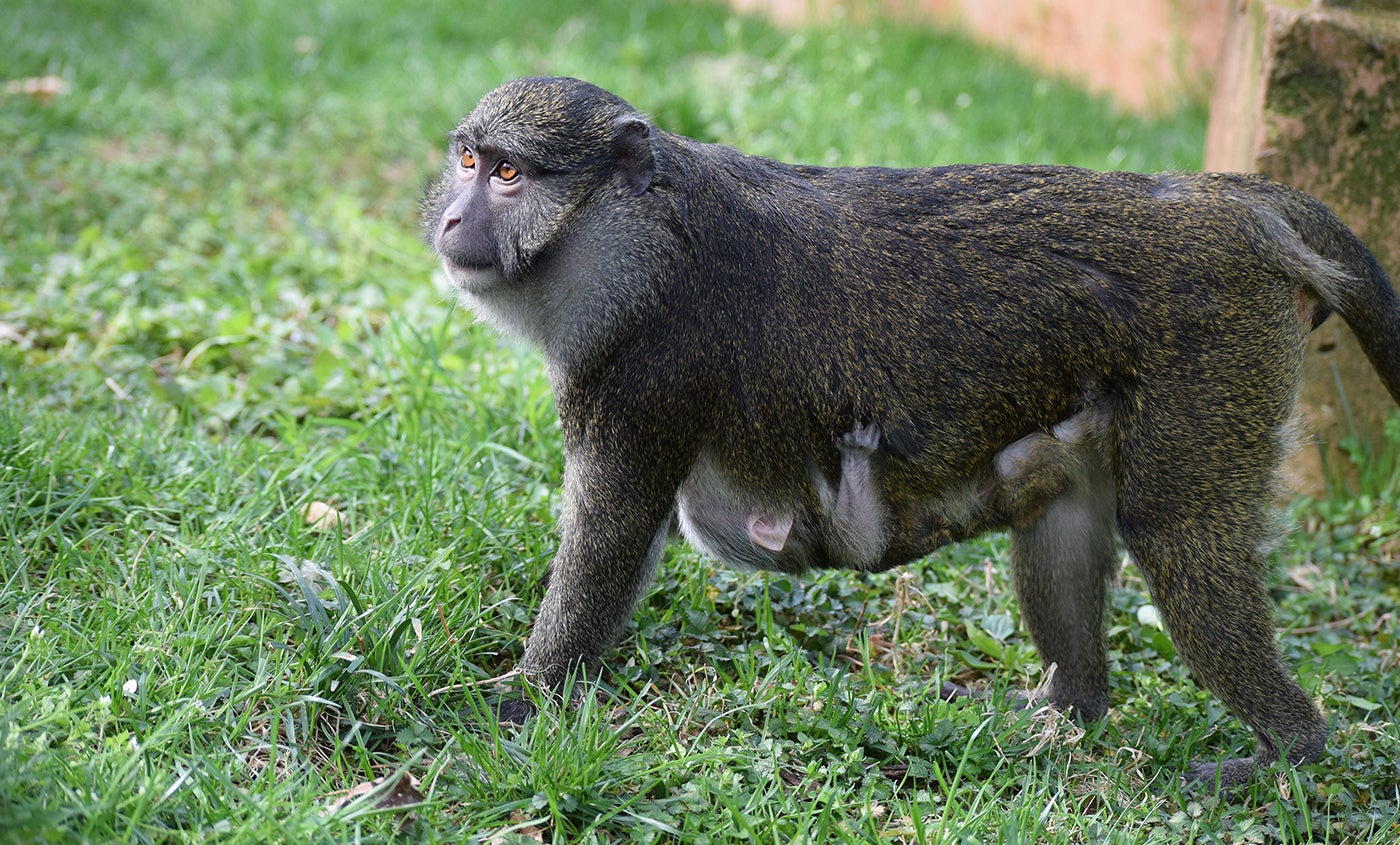monkey_body: (520, 149, 1361, 706)
monkey_face: (404, 85, 672, 310)
